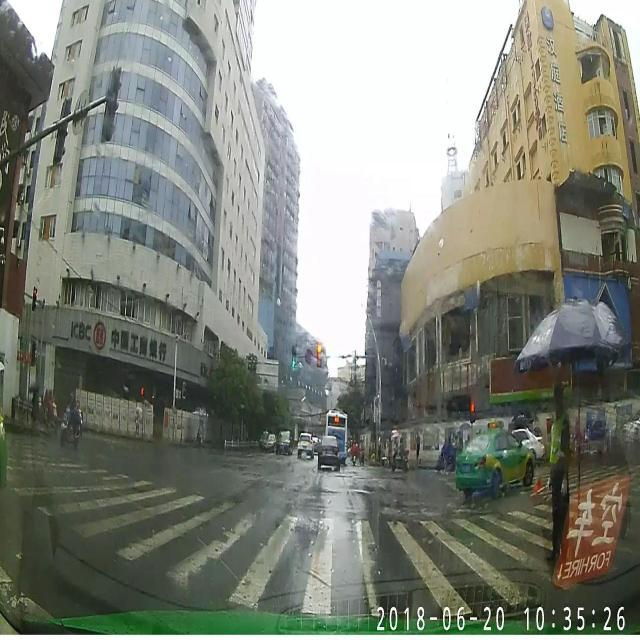car: (454, 417, 536, 492), (316, 432, 341, 472), (274, 426, 292, 456), (295, 432, 314, 456)
